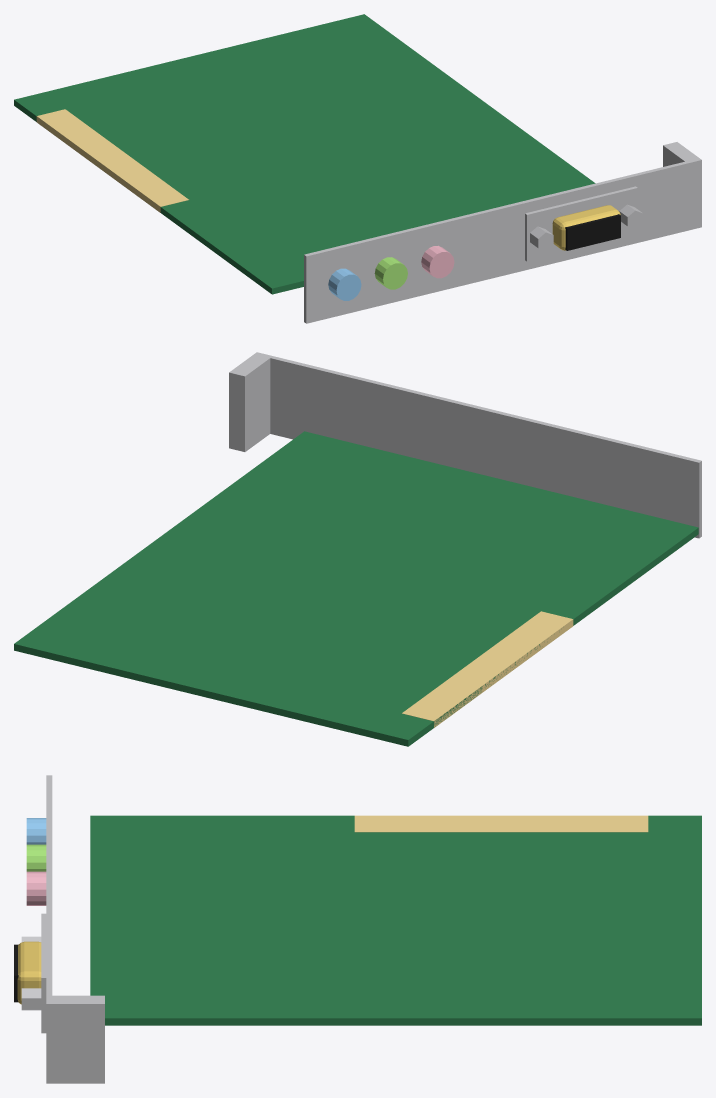
Rendered from card_sound.glb.
3 views of the same model, one above another, from view 1: azimuth 30°, elevation 25°; view 2: azimuth 150°, elevation 25°; view 3: azimuth 270°, elevation 25° (orthographic). The views are drawn at different scales.
Visible parts, largest first — view 1: card_sound_body; view 2: card_sound_body; view 3: card_sound_body.
Part boxes in pixels (bbox=[...]): card_sound_body: bbox=[14, 14, 701, 323]; card_sound_body: bbox=[14, 352, 701, 746]; card_sound_body: bbox=[14, 775, 701, 1083].
Size of the model in its own units: 0.115 by 0.018 by 0.1406.
